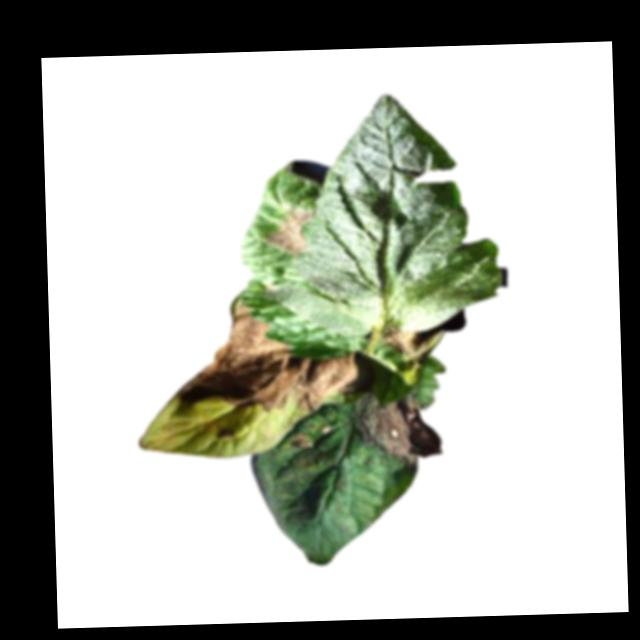Late_blight: (174, 300, 373, 415), (353, 383, 445, 463), (263, 207, 318, 256), (383, 329, 442, 361), (294, 428, 315, 450)
healthy: (265, 91, 502, 336)
